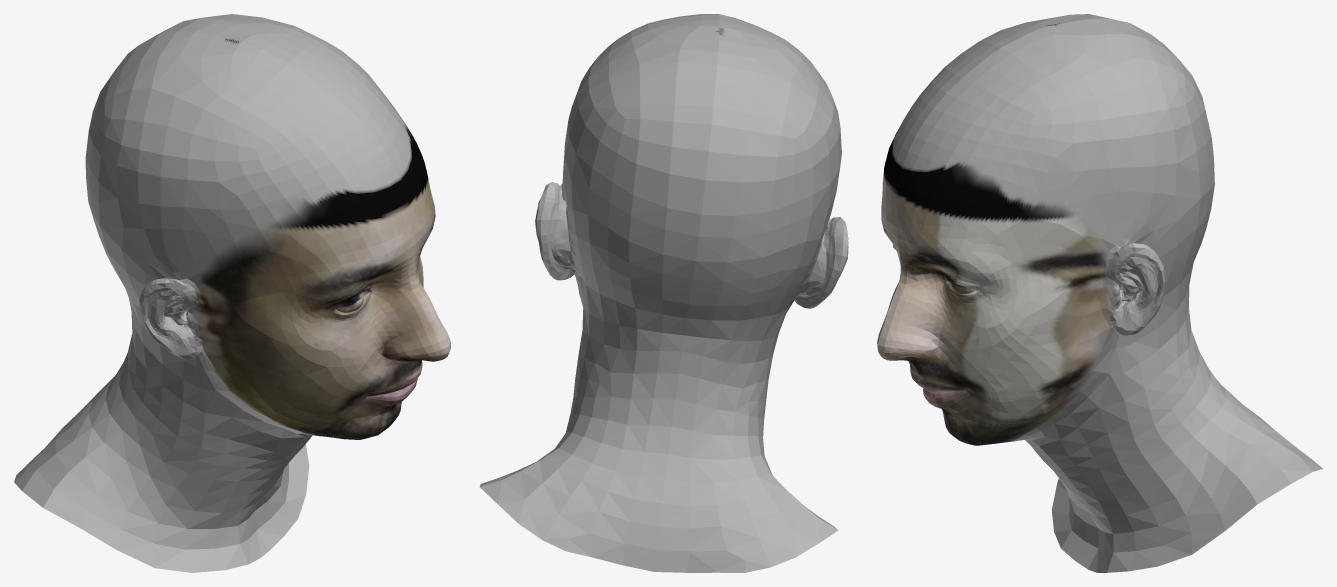
Rendered from ezgif-frame-041.obj.
3 renders of one model, left to right at view 1: azimuth 30°, elevation 25°; view 2: azimuth 150°, elevation 25°; view 3: azimuth 270°, elevation 25°, orthographic. The views are drawn at different scales.
Size of the model in its own units: 0.2016 by 0.327 by 0.2547.
1 material, 1 textured.
